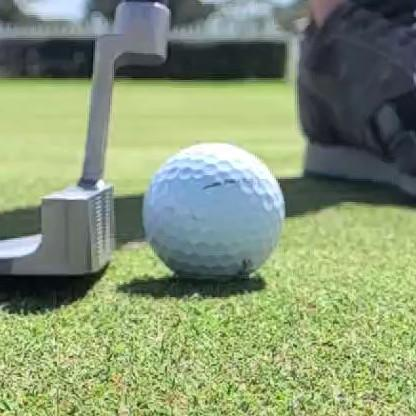golfball: (144, 144, 284, 281)
